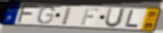F: (15, 4, 41, 24), (80, 7, 100, 26)
G: (36, 5, 56, 25)
I: (60, 6, 74, 26)
L: (124, 9, 139, 29)
U: (103, 7, 128, 29)
